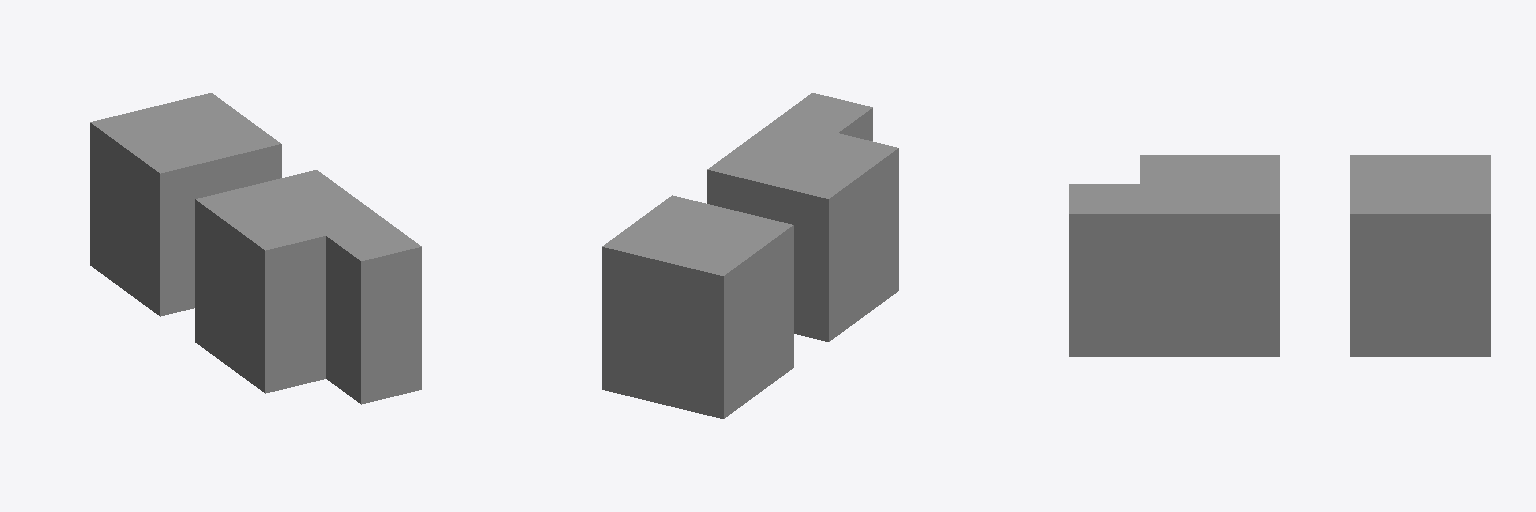
File: Semicolon.obj
The picture shows the model from 3 angles: view 1: azimuth 30°, elevation 25°; view 2: azimuth 150°, elevation 25°; view 3: azimuth 270°, elevation 25°; orthographic projection.
Parts seen in each view (by area): view 1: Semicolon_CUABC.045; view 2: Semicolon_CUABC.045; view 3: Semicolon_CUABC.045.
Boxes of the visible parts, x1,y1,x2,y2 form: Semicolon_CUABC.045: [90, 93, 421, 404]; Semicolon_CUABC.045: [602, 93, 898, 418]; Semicolon_CUABC.045: [1069, 155, 1490, 356].
Bounding box in the file's own units: 0.2222 × 0.25 × 0.6667.